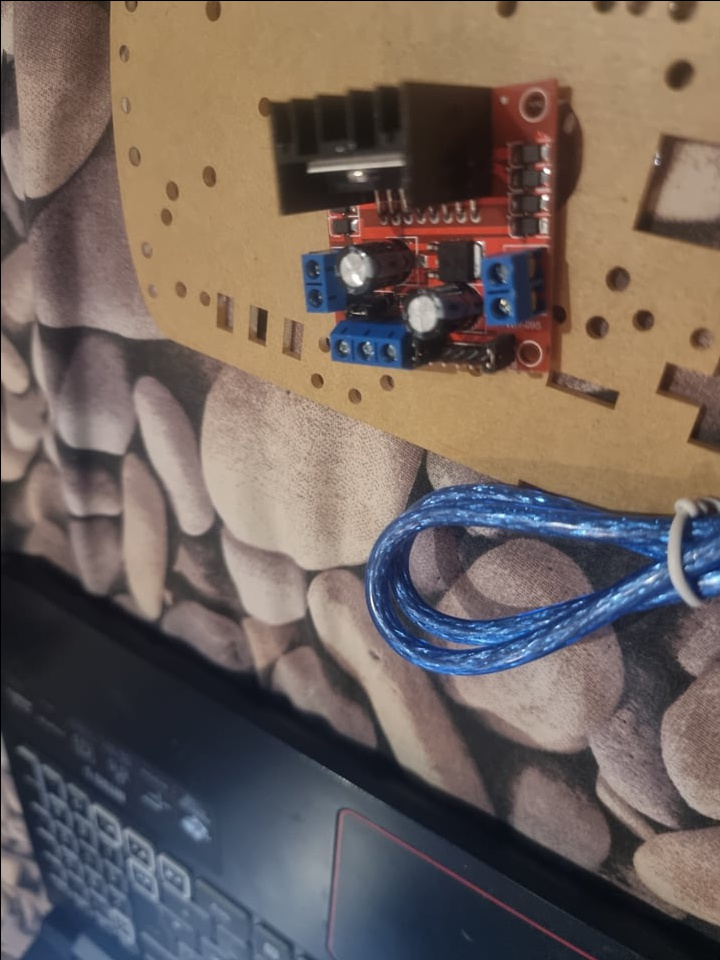MOTOR: (260, 75, 564, 374)
